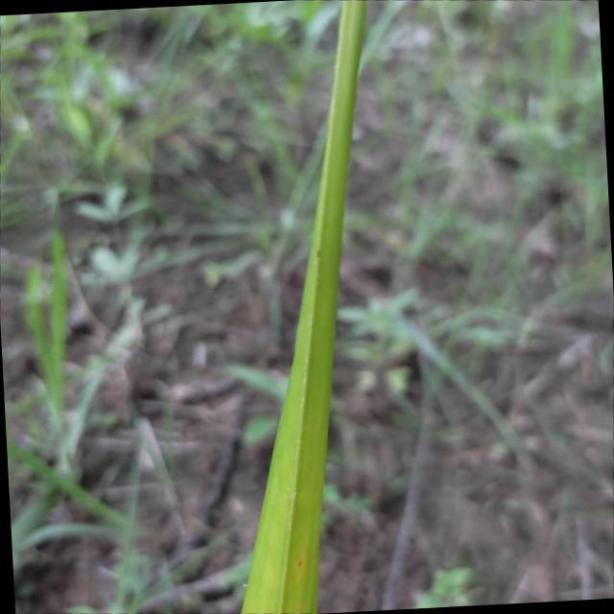nitrogen: (243, 0, 368, 614)
